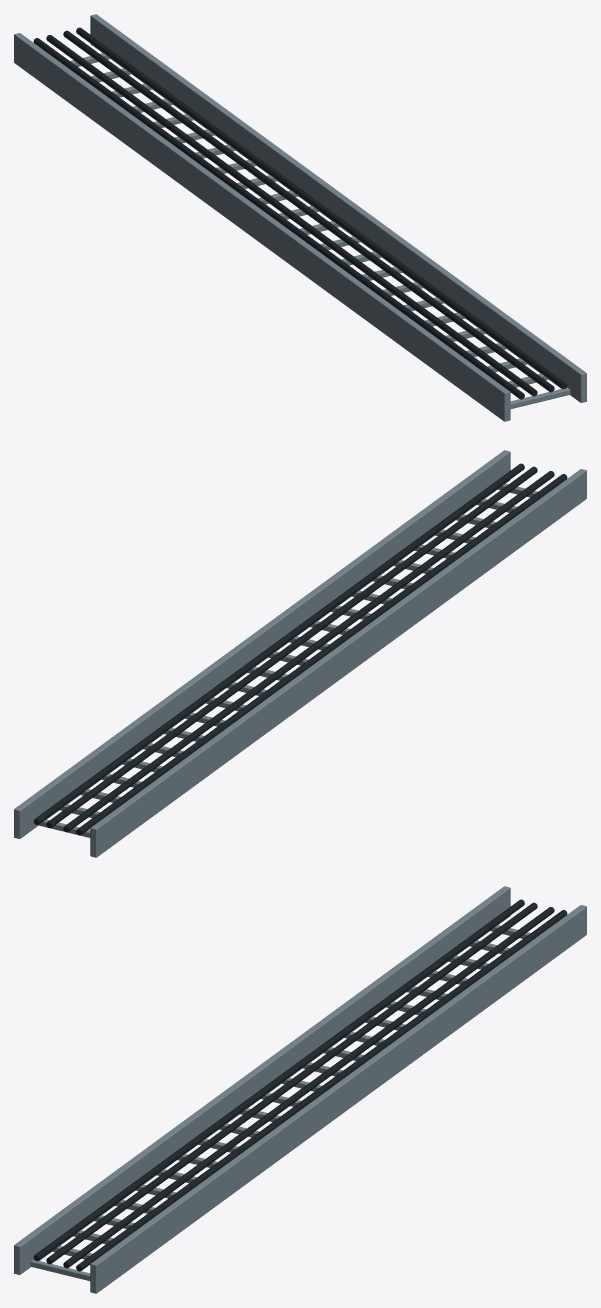
The model's file is SM_Lab_CableTray.fbx.
3 renders of one model, top to bottom at view 1: azimuth 30°, elevation 25°; view 2: azimuth 150°, elevation 25°; view 3: azimuth 330°, elevation 25°, orthographic.
Parts seen in each view (by area): view 1: SM_Lab_CableTray; view 2: SM_Lab_CableTray; view 3: SM_Lab_CableTray.
Part boxes in pixels (x1,y1,x2,y2): SM_Lab_CableTray: (14, 14, 586, 421); SM_Lab_CableTray: (14, 450, 586, 857); SM_Lab_CableTray: (14, 886, 586, 1293).
Bounding box in the file's own units: 39 × 400 × 13.
